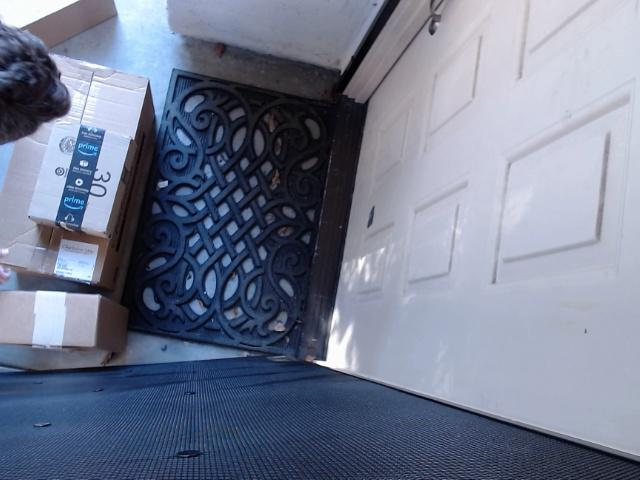box: (0, 49, 175, 297), (12, 123, 136, 243), (0, 278, 156, 365), (0, 0, 155, 38)
